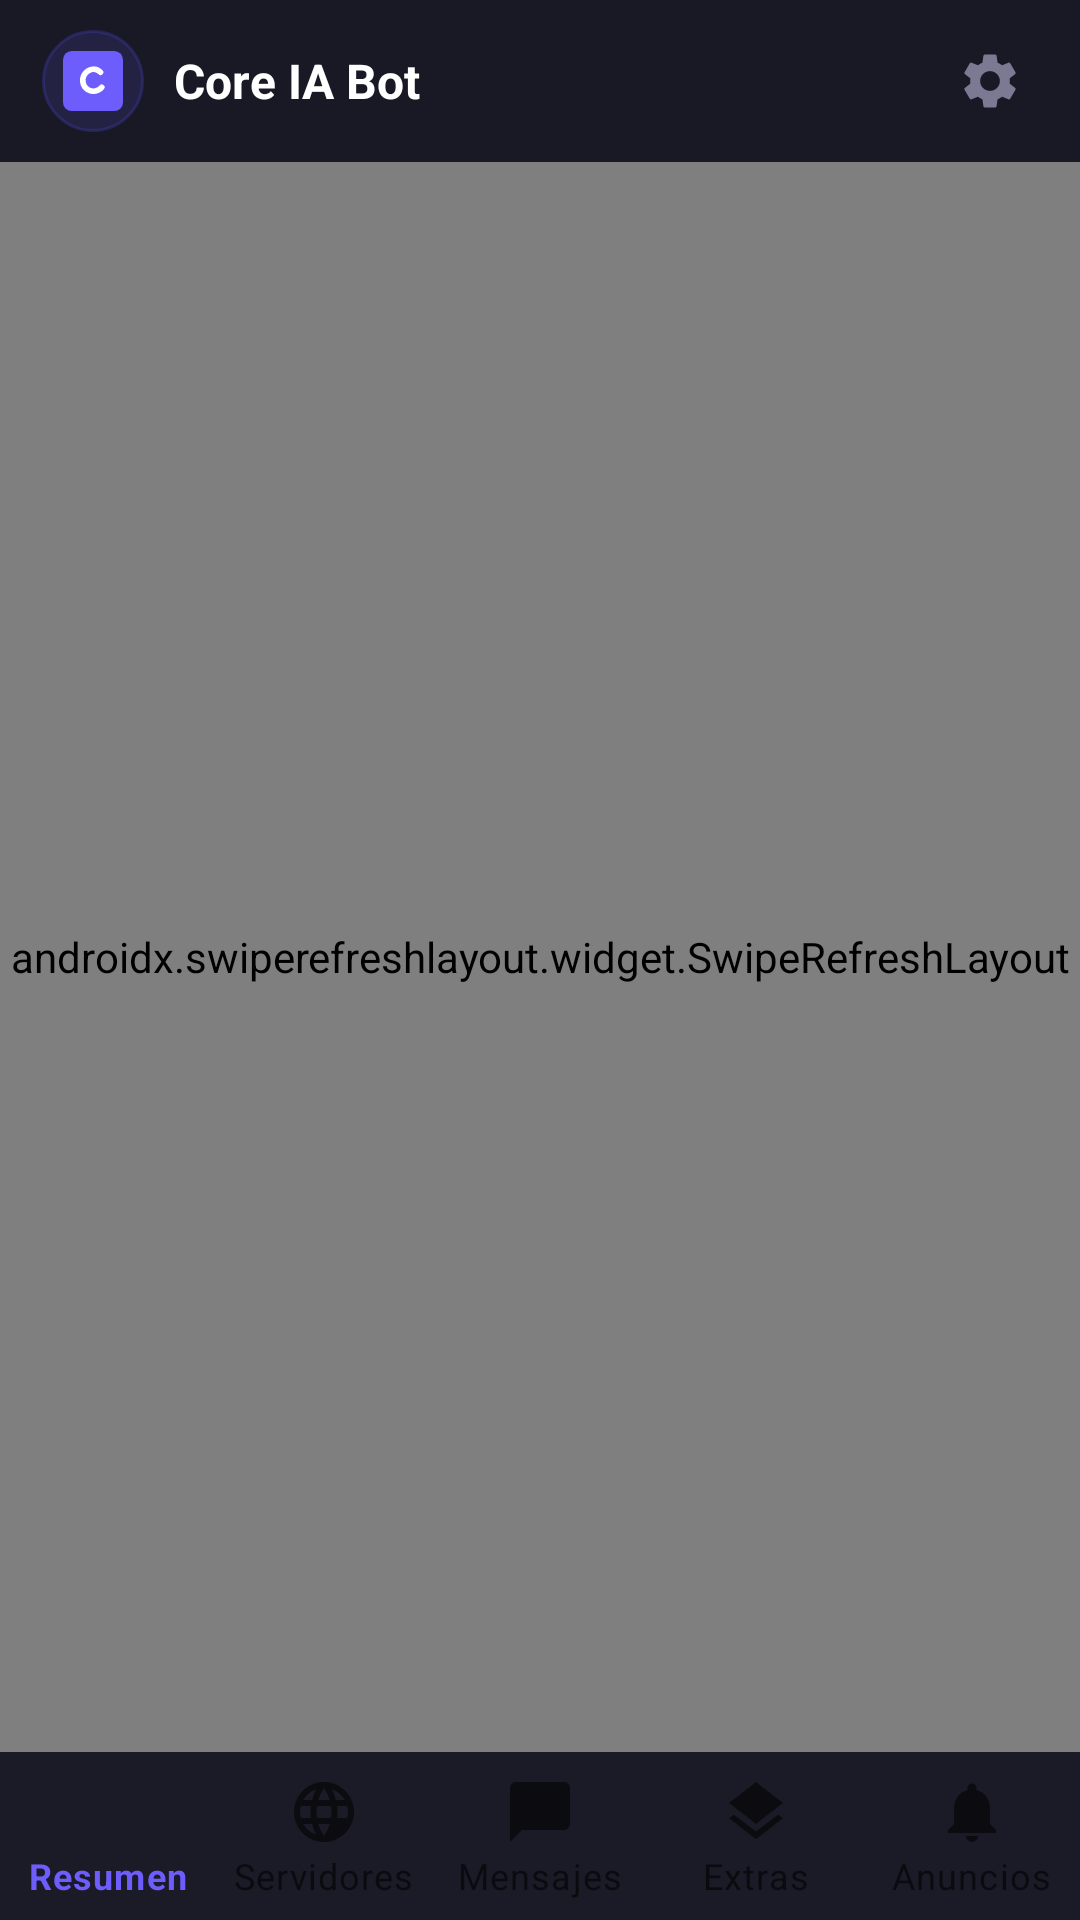

Icons on this 1080px×1920px Android screen, each with its box as [x1,y1,x2,y2]:
Ajustes: [964,54,1016,108]
